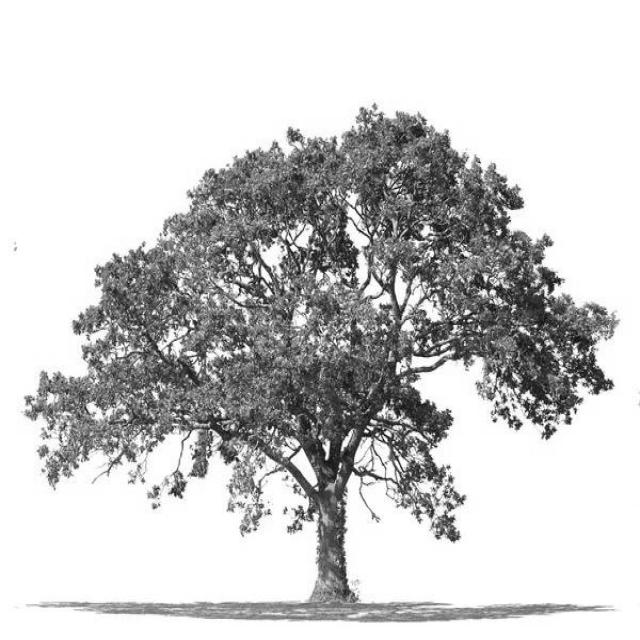Tree: (25, 109, 618, 602)
